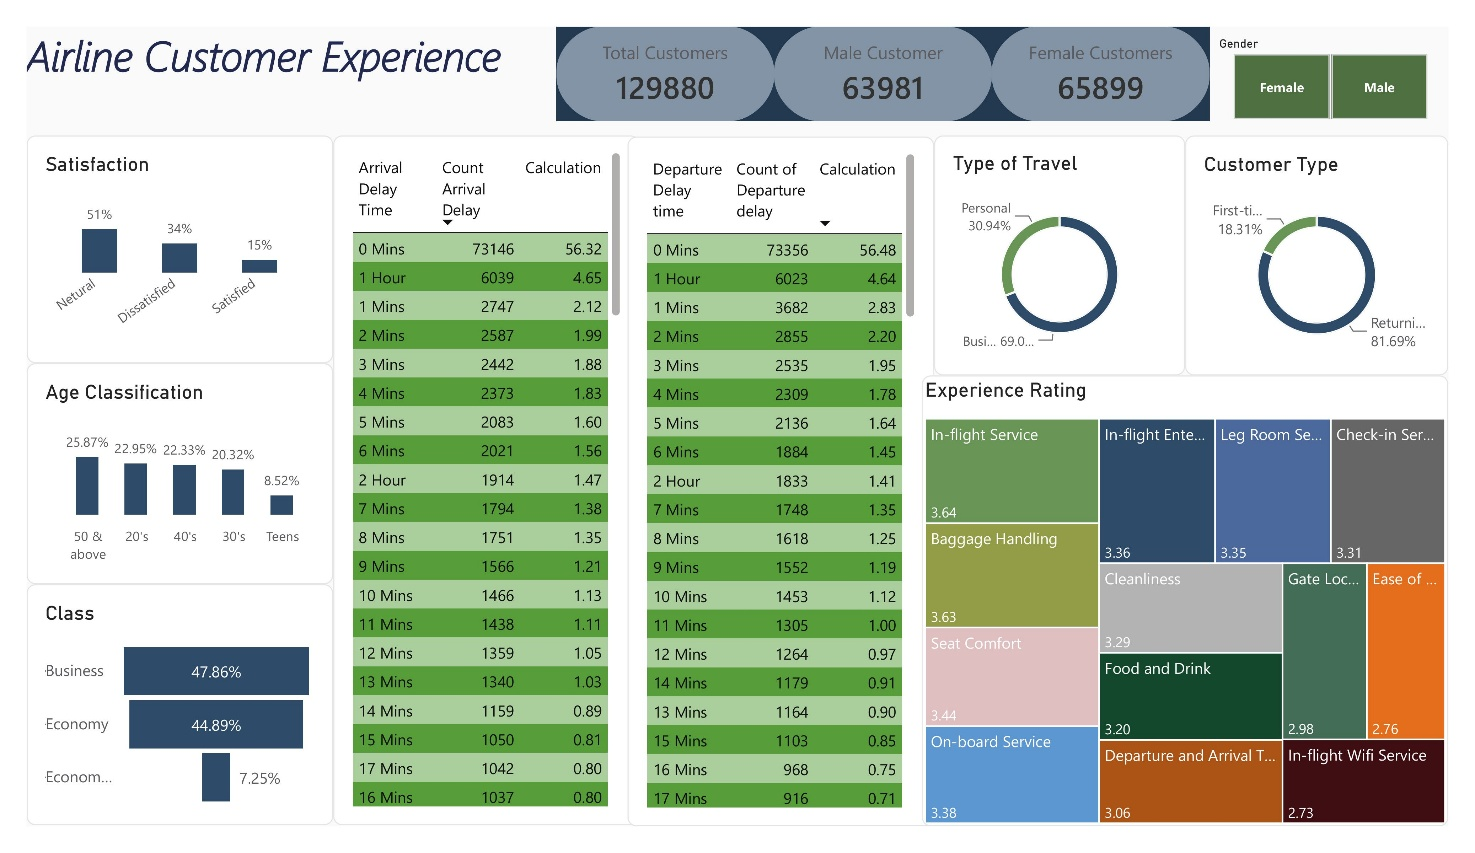

Layout of this report page (visuals, bound fields, positions):
{"tool":"powerbi","page":{"name":"Page 1","canvas":[1280,720],"ordinal":0},"visuals":[{"type":"clusteredColumnChart","title":"Satisfaction","fields":{"Category":["airline_passenger_satisfaction.Customer Experience"],"Y":["CountNonNull(airline_passenger_satisfaction.ID)"]},"box":[0,97.7,275.6,205.8],"z":2000},{"type":"cardVisual","fields":{"Data":["airline_passenger_satisfaction.Total Customers","airline_passenger_satisfaction.Male","airline_passenger_satisfaction.Female Customers"]},"box":[476.7,0,589.5,84.9],"z":3000},{"type":"funnel","title":"Class","fields":{"Category":["airline_passenger_satisfaction.Class"],"Y":["CountNonNull(airline_passenger_satisfaction.ID)"]},"box":[0,502.3,275.6,216.3],"z":4000},{"type":"donutChart","title":"Customer Type","fields":{"Category":["airline_passenger_satisfaction.Customer Type"],"Y":["CountNonNull(airline_passenger_satisfaction.ID)"]},"box":[1043,97.7,237.2,216.3],"z":5000},{"type":"slicer","fields":{"Values":["airline_passenger_satisfaction.Gender"]},"box":[1066.3,9.3,214,75.6],"z":7000},{"type":"textbox","box":[0,0,476.7,84.9],"z":8000},{"type":"tableEx","fields":{"Values":["airline_passenger_satisfaction.Arrival Delay Time","airline_passenger_satisfaction.Count Arrival Delay","select"]},"box":[275.6,97.7,276.7,620.9],"z":9000},{"type":"clusteredColumnChart","title":"Age Classification","fields":{"Category":["airline_passenger_satisfaction.Age Classification"],"Y":["CountNonNull(airline_passenger_satisfaction.ID)"]},"box":[0,303.5,275.6,198.8],"z":10000},{"type":"tableEx","fields":{"Values":["airline_passenger_satisfaction.Departure Delay time","airline_passenger_satisfaction.Count of Departure delay","select"]},"box":[540.7,98.8,276,620.9],"z":10500},{"type":"donutChart","title":"Type of Travel","fields":{"Category":["airline_passenger_satisfaction.Type of Travel"],"Y":["CountNonNull(airline_passenger_satisfaction.ID)"]},"box":[816.9,97.7,226.6,216.2],"z":11500},{"type":"treemap","title":"Experience Rating","fields":{"Values":["Avg(airline_passenger_satisfaction.In-flight Entertainment)","Avg(airline_passenger_satisfaction.In-flight Service)","Avg(airline_passenger_satisfaction.In-flight Wifi Service)","Avg(airline_passenger_satisfaction.Leg Room Service)","Avg(airline_passenger_satisfaction.On-board Service)","Avg(airline_passenger_satisfaction.Departure and Arrival Time Convenience)","Avg(airline_passenger_satisfaction.Ease of Online Booking)","Avg(airline_passenger_satisfaction.Food and Drink)","Avg(airline_passenger_satisfaction.Gate Location)","Avg(airline_passenger_satisfaction.Seat Comfort)","Avg(airline_passenger_satisfaction.Cleanliness)","Avg(airline_passenger_satisfaction.Check-in Service)"]},"box":[805.9,314.1,474.1,405.9],"z":12000}]}

Visuals, with their boxes in screenshot pixels (x1, y1, x2, y2), scaled from the page's 1280x720 canvas onto the 1475x853 screenshot:
"Satisfaction" clusteredColumnChart: rect(0, 116, 318, 360)
cardVisual - airline_passenger_satisfaction.Total Customers x airline_passenger_satisfaction.Male: rect(549, 0, 1229, 101)
"Class" funnel: rect(0, 595, 318, 851)
"Customer Type" donutChart: rect(1202, 116, 1474, 372)
slicer - airline_passenger_satisfaction.Gender: rect(1229, 11, 1474, 101)
textbox: rect(0, 0, 549, 101)
tableEx - airline_passenger_satisfaction.Arrival Delay Time x airline_passenger_satisfaction.Count Arrival Delay: rect(318, 116, 636, 851)
"Age Classification" clusteredColumnChart: rect(0, 360, 318, 595)
tableEx - airline_passenger_satisfaction.Departure Delay time x airline_passenger_satisfaction.Count of Departure delay: rect(623, 117, 941, 852)
"Type of Travel" donutChart: rect(941, 116, 1202, 372)
"Experience Rating" treemap: rect(929, 372, 1474, 852)
